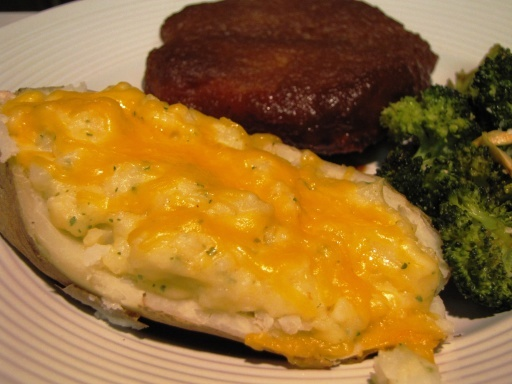background: (0, 0, 410, 230)
